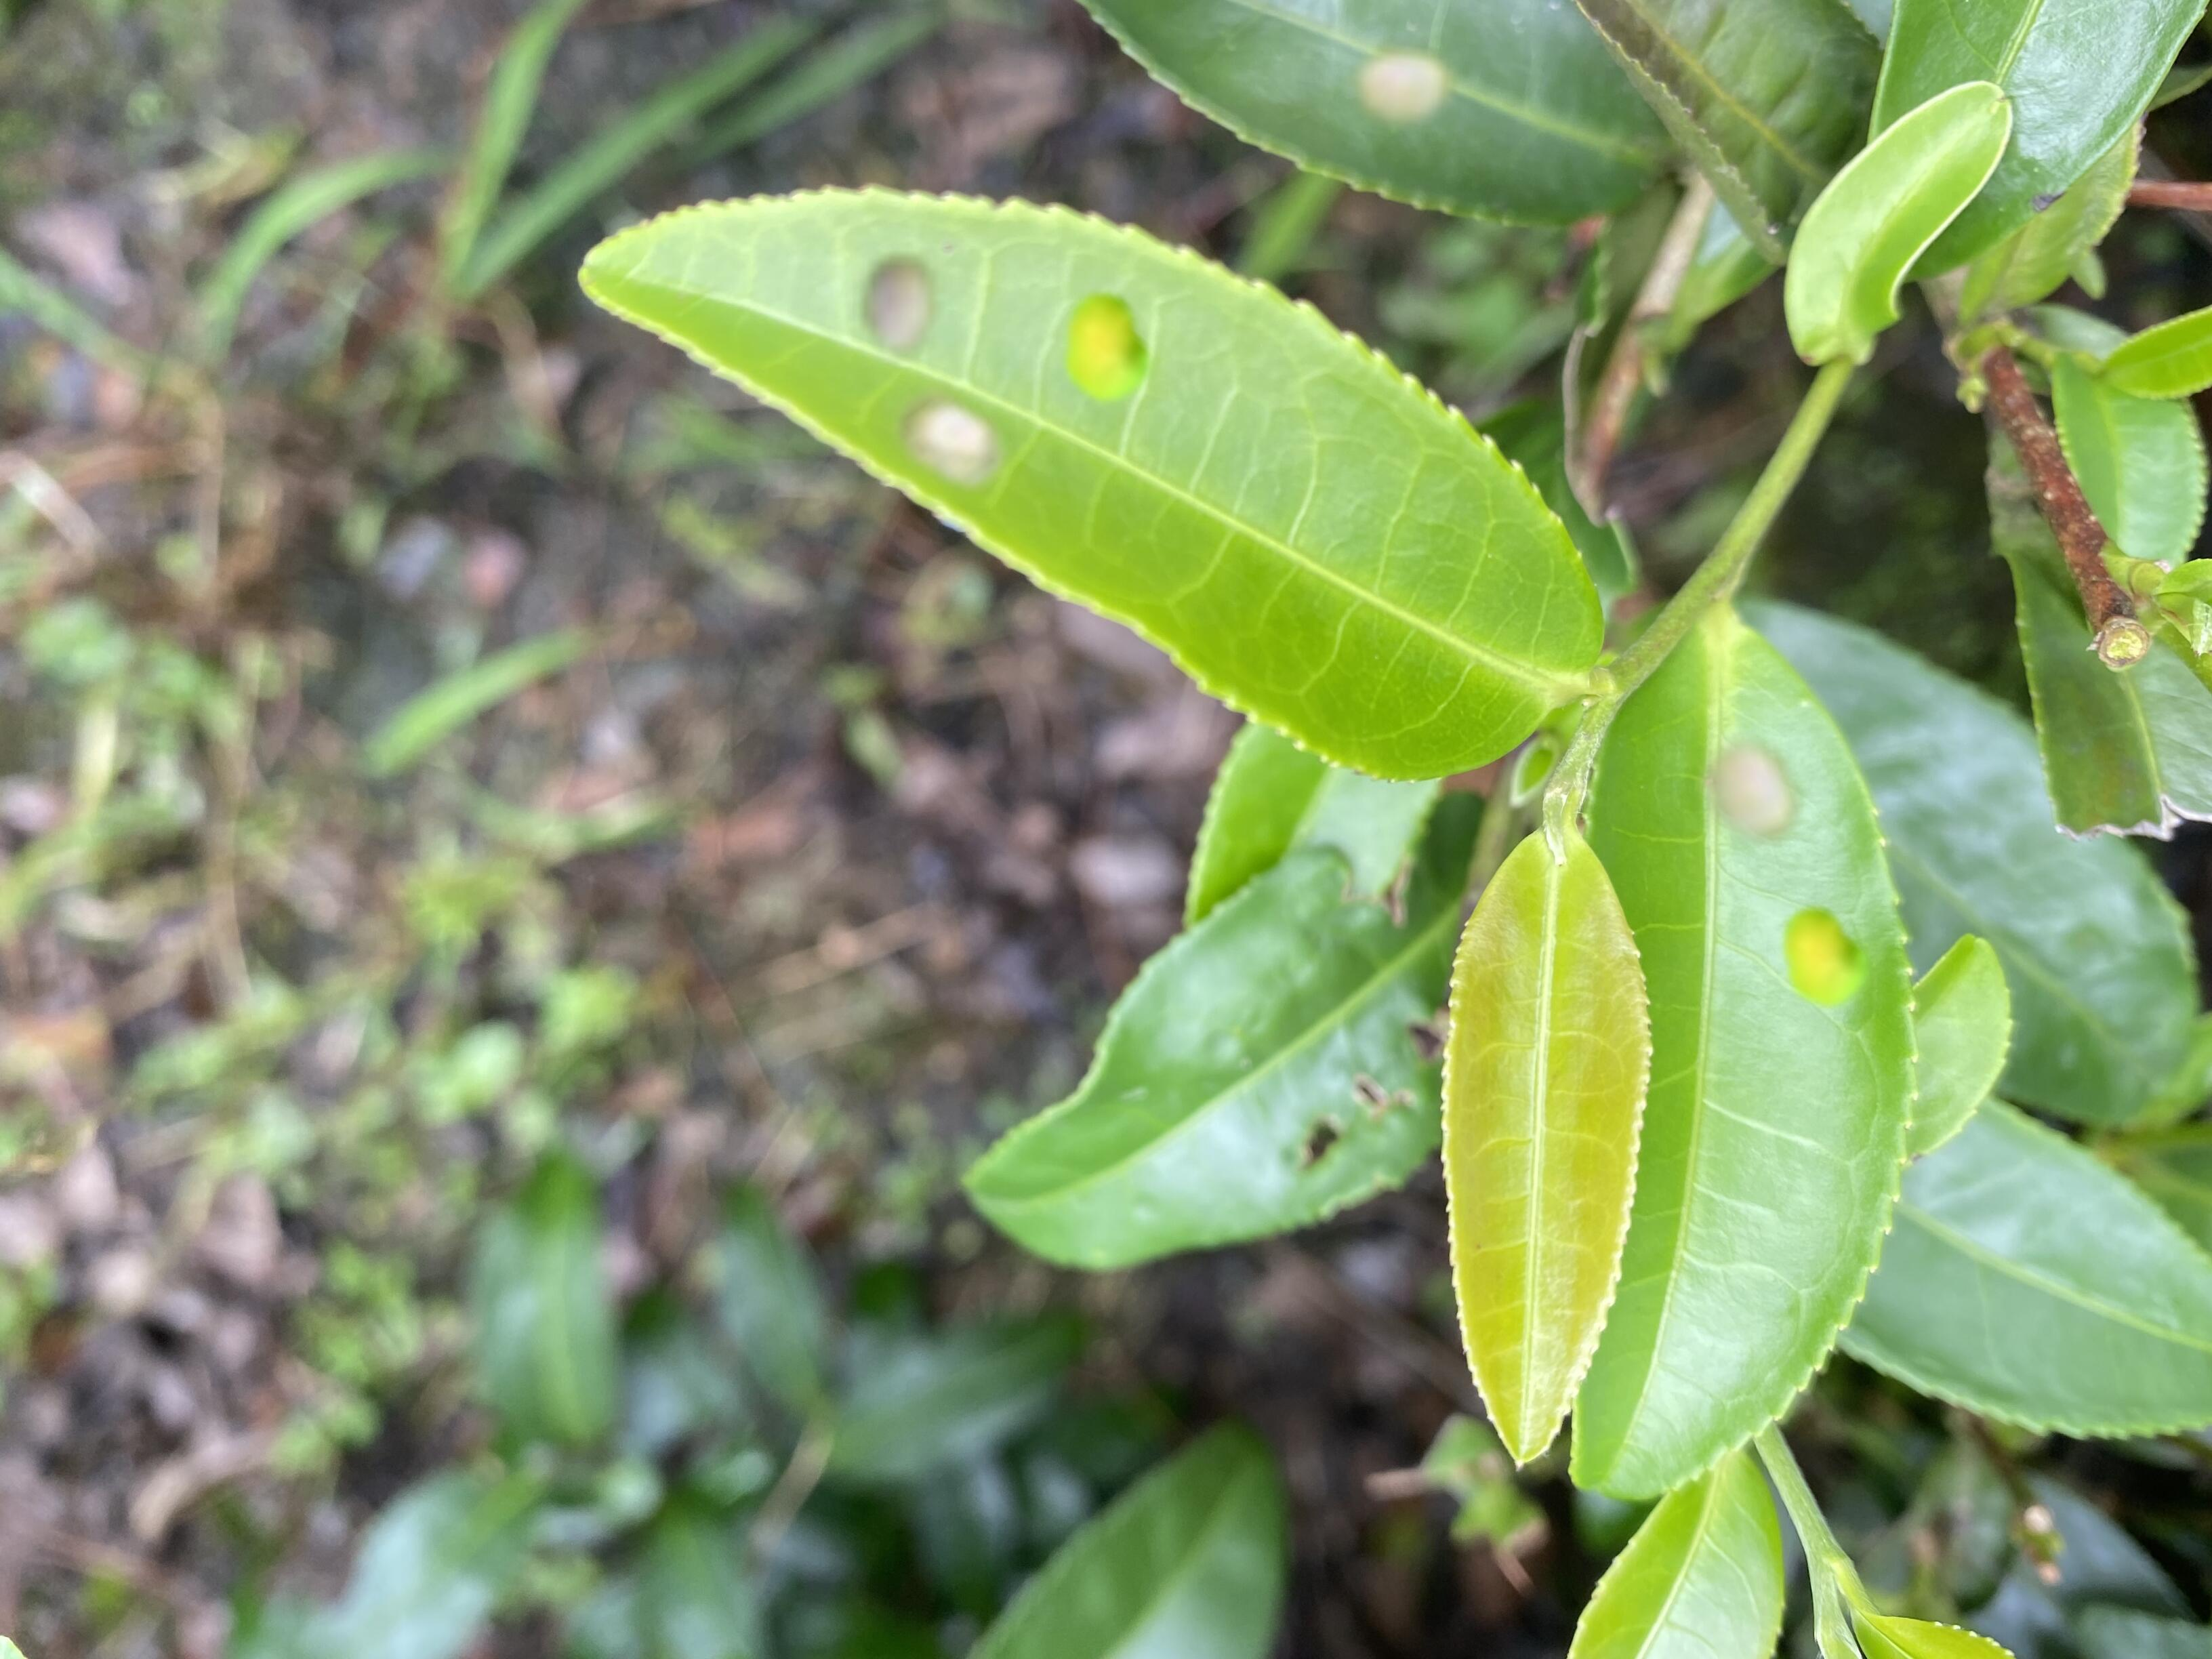chabing_high: (575, 178, 1606, 784), (1651, 594, 1914, 1495)
chabing_low: (1080, 5, 1681, 239)
chihuo_high: (963, 852, 1442, 1283), (2006, 544, 2210, 852)
tanju_low: (1442, 826, 1651, 1474), (1871, 7, 2207, 291)
